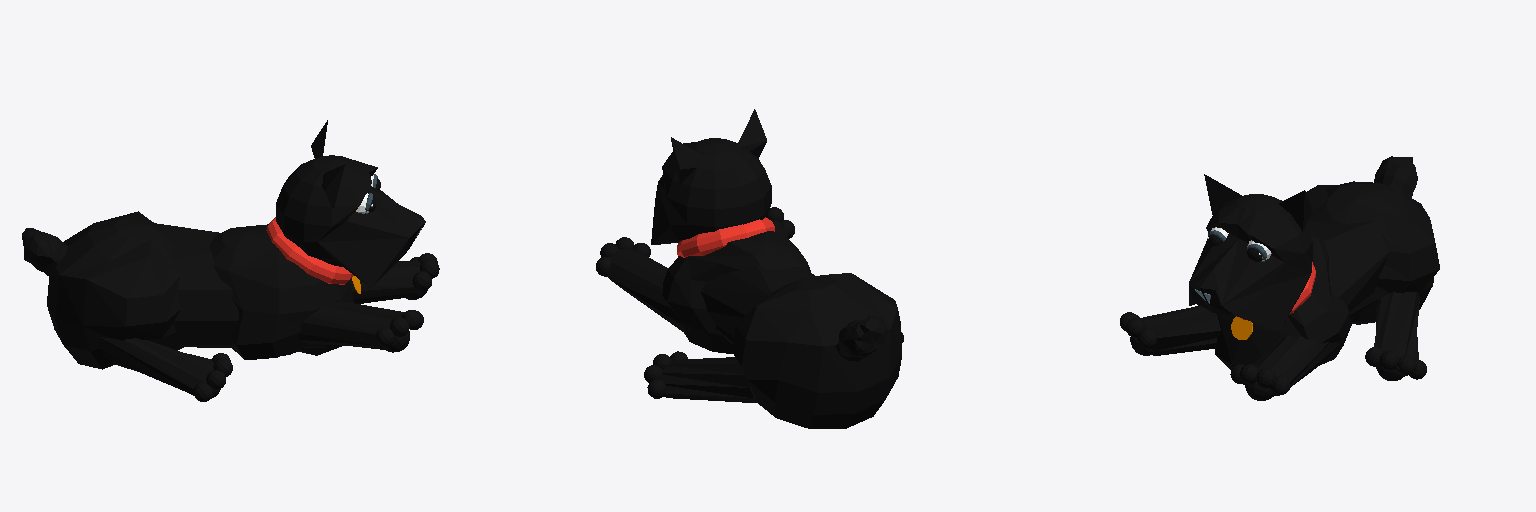
The picture shows the model from 3 angles: view 1: azimuth 30°, elevation 25°; view 2: azimuth 150°, elevation 25°; view 3: azimuth 270°, elevation 25°; orthographic projection.
Parts seen in each view (by area): view 1: group[number redacted], group[number redacted], group[number redacted], group[number redacted], group[number redacted], group[number redacted], group[number redacted], group[number redacted], group[number redacted], group[number redacted], group[number redacted], group[number redacted] (+1 smaller); view 2: group[number redacted], group[number redacted], group[number redacted], group[number redacted], group[number redacted], group[number redacted], group[number redacted], group[number redacted], group[number redacted], group[number redacted], group[number redacted], group[number redacted]; view 3: group[number redacted], group[number redacted], group[number redacted], group[number redacted], group[number redacted], group[number redacted], group[number redacted], group[number redacted], group[number redacted], group[number redacted], group[number redacted], group[number redacted] (+1 smaller).
Part boxes in pixels (x1,y1,x2,y2): group[number redacted]: (47,211,183,369); group[number redacted]: (276,155,425,287); group[number redacted]: (209,224,353,359); group[number redacted]: (156,223,238,347); group[number redacted]: (98,337,224,395); group[number redacted]: (299,301,404,349); group[number redacted]: (349,261,420,303); group[number redacted]: (266,217,353,284); group[number redacted]: (22,228,67,277); group[number redacted]: (375,310,423,352); group[number redacted]: (194,353,232,401); group[number redacted]: (406,253,439,299); group[number redacted]: (731,273,901,428); group[number redacted]: (651,138,771,244); group[number redacted]: (662,231,810,353); group[number redacted]: (701,265,814,343); group[number redacted]: (660,357,756,402); group[number redacted]: (607,249,689,333); group[number redacted]: (835,315,886,361); group[number redacted]: (677,217,774,257); group[number redacted]: (644,351,687,398); group[number redacted]: (596,237,650,276); group[number redacted]: (737,109,766,158); group[number redacted]: (671,137,703,183); group[number redacted]: (1189,194,1312,331); group[number redacted]: (1306,181,1439,324); group[number redacted]: (1215,233,1351,369); group[number redacted]: (1306,220,1388,320); group[number redacted]: (1139,305,1220,355); group[number redacted]: (1374,292,1419,372); group[number redacted]: (1243,336,1342,396); group[number redacted]: (1230,364,1289,400); group[number redacted]: (1365,347,1426,380); group[number redacted]: (1374,156,1417,197); group[number redacted]: (1120,312,1156,355); group[number redacted]: (1279,190,1312,231).
Bounding box in the file's own units: 2.98 × 1.76 × 2.39.